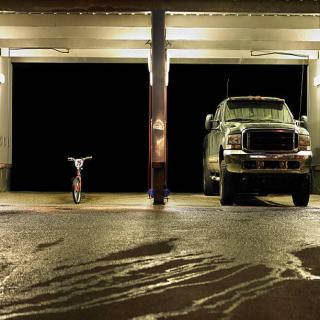Normal_vehicle: (203, 94, 311, 209)
